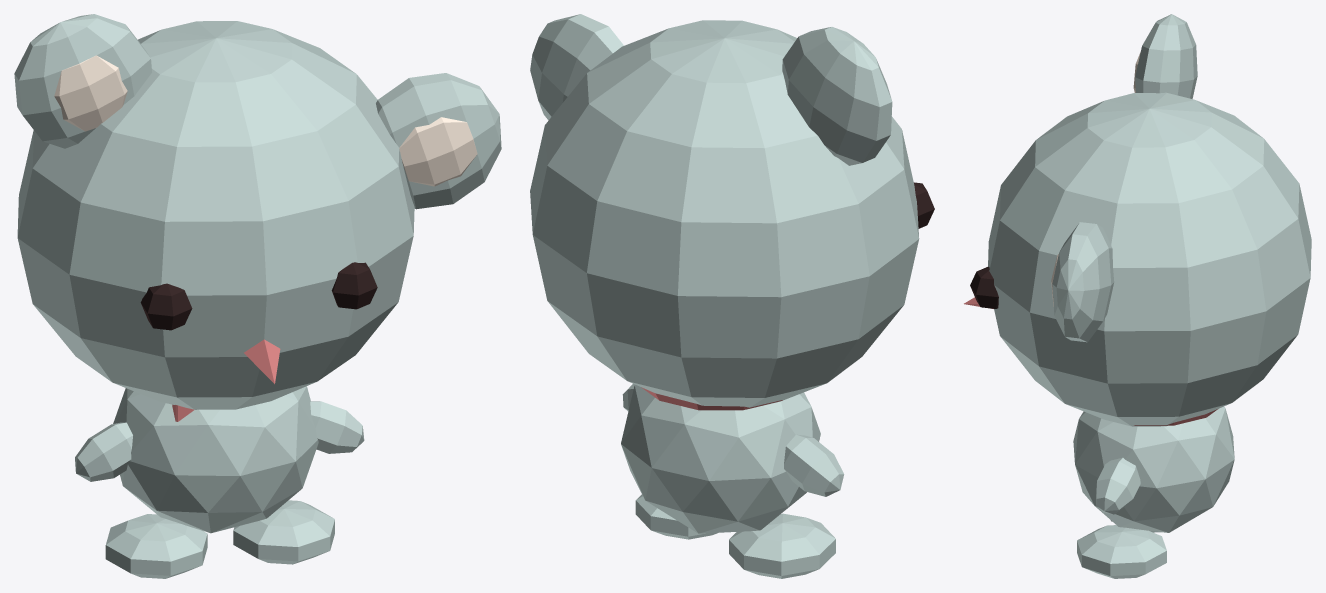
The model's file is biped-volcanic-1.glb.
3 views of the same model, side by side, from view 1: azimuth 30°, elevation 25°; view 2: azimuth 150°, elevation 25°; view 3: azimuth 270°, elevation 25° (orthographic). The views are drawn at different scales.
Parts seen in each view (by area): view 1: biped-volcanic-1; view 2: biped-volcanic-1; view 3: biped-volcanic-1.
Part boxes in pixels (left/top/right/bottom): biped-volcanic-1: left=14, top=14, right=501, bottom=578; biped-volcanic-1: left=530, top=14, right=934, bottom=578; biped-volcanic-1: left=964, top=14, right=1311, bottom=578.
Size of the model in its own units: 0.705 by 0.9 by 0.5944.
